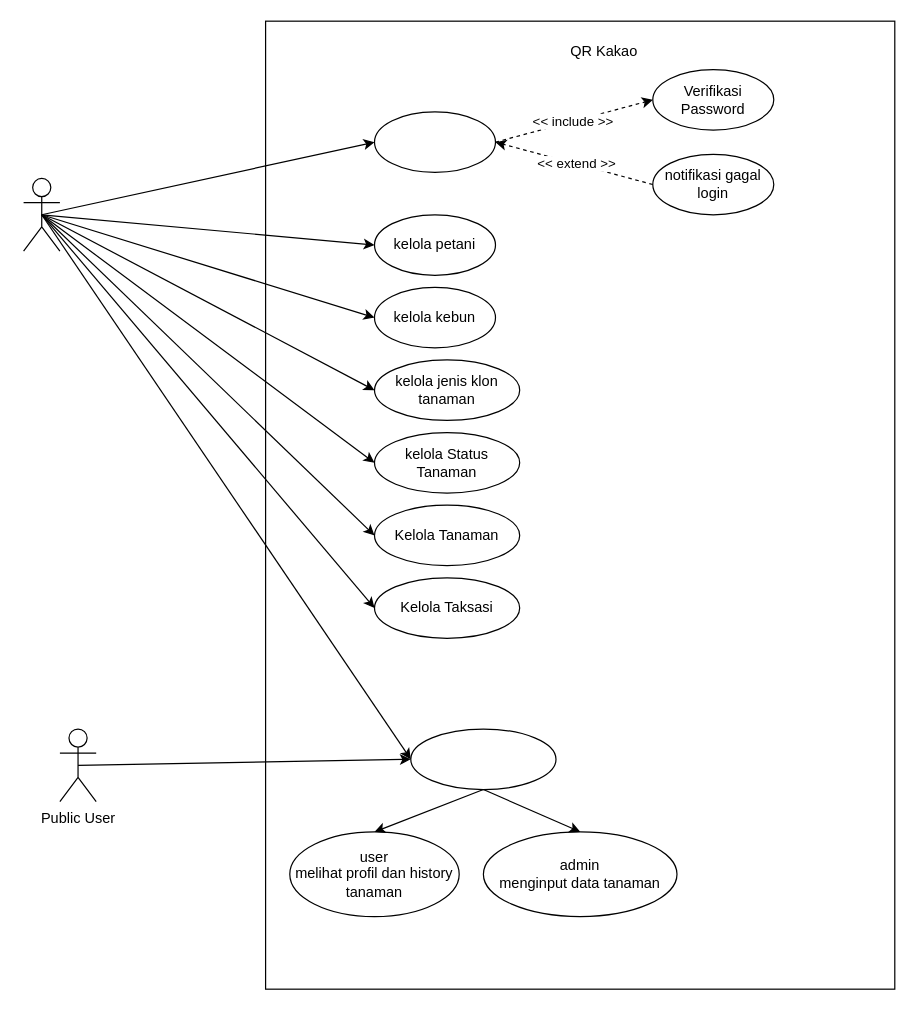
Image size: 916x1010. Some labels were removed from this diagram. Here are the shapes that lost their labels. From the top down, the centre of each, then its label:
the point at 434,141: Login
the point at 41,214: Admin
the point at 483,759: scan qr
